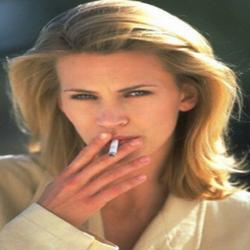smoking: (94, 134, 142, 159)
